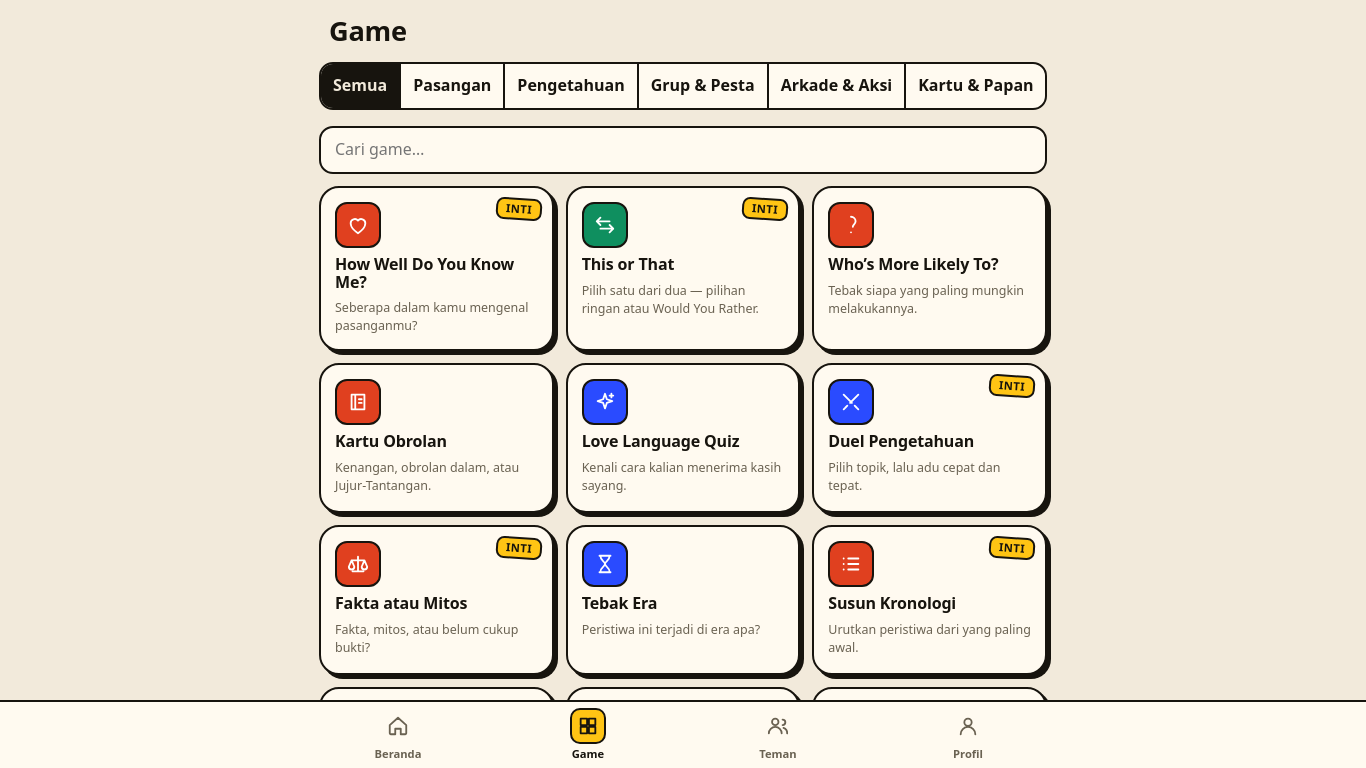
Test: navigasi & halaman penting › daftar game memuat semua game dan pencarian bekerja
Type "kronologi" into the field labelled "Cari game".
click(683, 150); type("kronologi")  # box left=319, top=126, right=1047, bottom=174
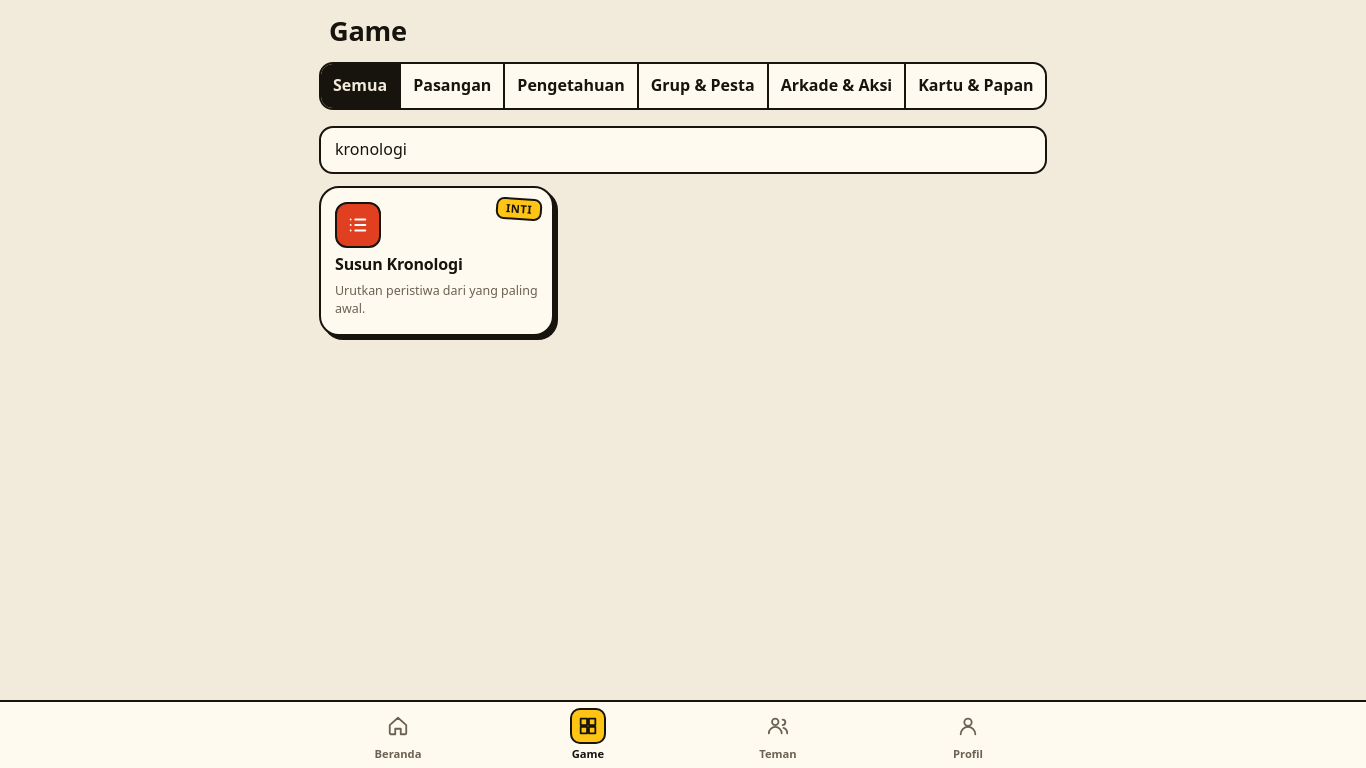
Expected: the number of buttons named "Buka " is 1, left=319, top=186, right=554, bottom=336
Replace the text in the field named "Cari game" with "zzzz" at (683, 150), box left=319, top=126, right=1047, bottom=174
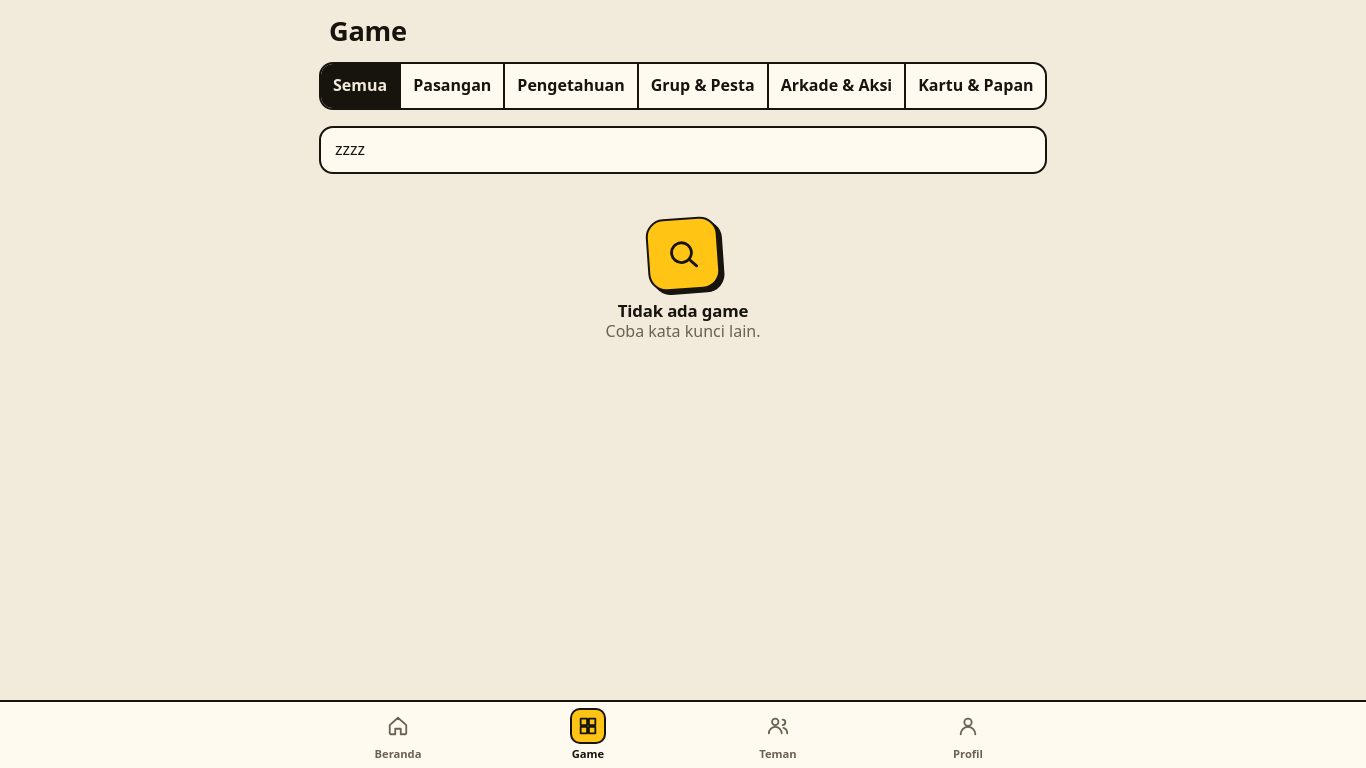
Expected: the heading "Tidak ada game" is shown, left=618, top=299, right=748, bottom=322
